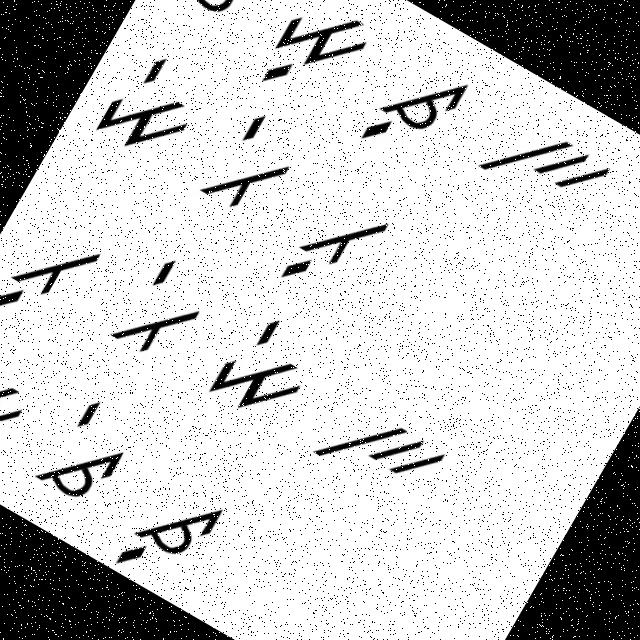be: (96, 242, 225, 384)
bu: (268, 172, 400, 316), (0, 205, 115, 352)
ce: (22, 376, 156, 520), (178, 100, 312, 242), (166, 0, 291, 35)
cu: (352, 40, 485, 186), (103, 465, 234, 603)
me: (194, 302, 334, 446), (88, 38, 218, 174)
mu: (239, 0, 389, 130), (0, 338, 44, 493)
